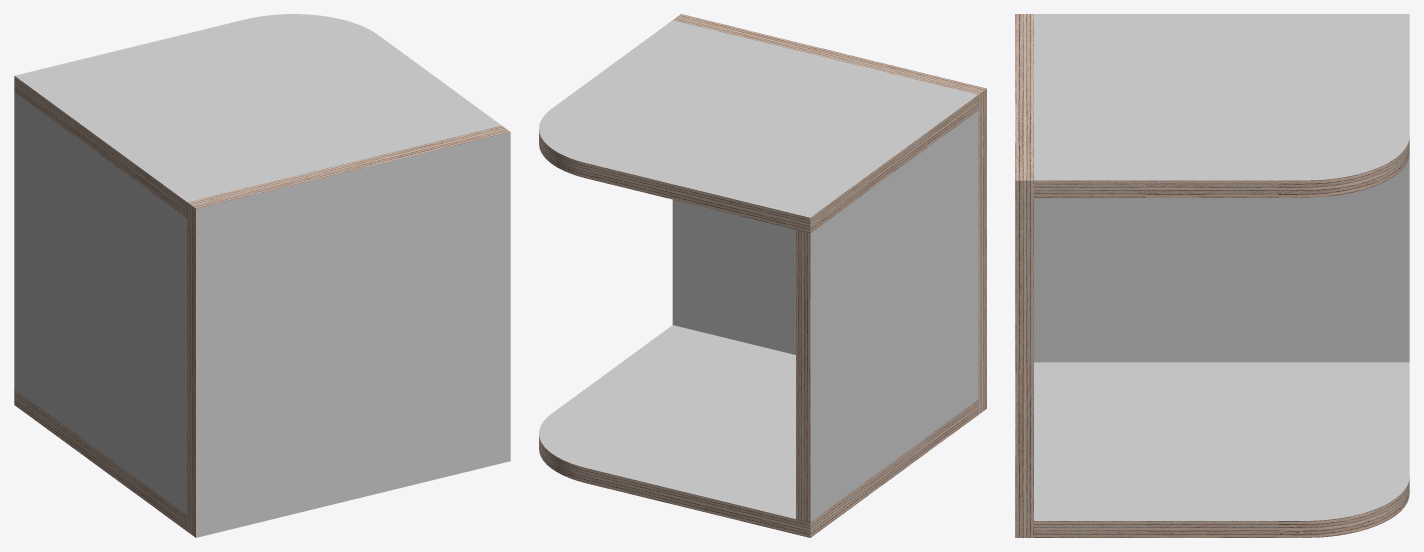
The model's file is Right Open Shelf.fbx.
3 views of the same model, side by side, from view 1: azimuth 30°, elevation 25°; view 2: azimuth 150°, elevation 25°; view 3: azimuth 270°, elevation 25° (orthographic). The views are drawn at different scales.
Parts seen in each view (by area): view 1: Right Open Shelf TL, Right Open Shelf BL, Right Open Shelf L, Right Open Shelf T, Right Open Shelf TR, Right Open Shelf C, Right Open Shelf R, Right Open Shelf B, Right Open Shelf BR; view 2: Right Open Shelf TR, Right Open Shelf BR, Right Open Shelf BL, Right Open Shelf TL, Right Open Shelf T, Right Open Shelf B, Right Open Shelf L, Right Open Shelf R, Right Open Shelf C; view 3: Right Open Shelf B, Right Open Shelf BR, Right Open Shelf BL, Right Open Shelf TL, Right Open Shelf T, Right Open Shelf TR, Right Open Shelf L, Right Open Shelf R, Right Open Shelf C.
Part boxes in pixels (x1,y1,x2,y2): Right Open Shelf TL: (135,87,510,318); Right Open Shelf BL: (135,351,510,537); Right Open Shelf L: (135,242,510,427); Right Open Shelf T: (75,43,449,273); Right Open Shelf TR: (14,14,388,229); Right Open Shelf C: (75,230,135,383); Right Open Shelf R: (14,186,74,339); Right Open Shelf B: (75,340,135,492); Right Open Shelf BR: (14,295,74,448); Right Open Shelf TR: (539,100,869,324); Right Open Shelf BR: (539,388,869,537); Right Open Shelf BL: (622,233,986,451); Right Open Shelf TL: (623,14,986,237); Right Open Shelf T: (563,57,927,280); Right Open Shelf B: (564,345,927,494); Right Open Shelf L: (672,195,986,344); Right Open Shelf R: (796,282,869,431); Right Open Shelf C: (869,239,927,387); Right Open Shelf B: (1146,260,1278,537); Right Open Shelf BR: (1278,260,1409,537); Right Open Shelf BL: (1015,260,1146,537); Right Open Shelf TL: (1015,14,1146,299); Right Open Shelf T: (1146,14,1278,197); Right Open Shelf TR: (1278,14,1409,197); Right Open Shelf L: (1015,197,1146,418); Right Open Shelf R: (1278,154,1409,259); Right Open Shelf C: (1146,197,1278,259).
Bounding box in the file's own units: 40 × 40.01 × 40.
